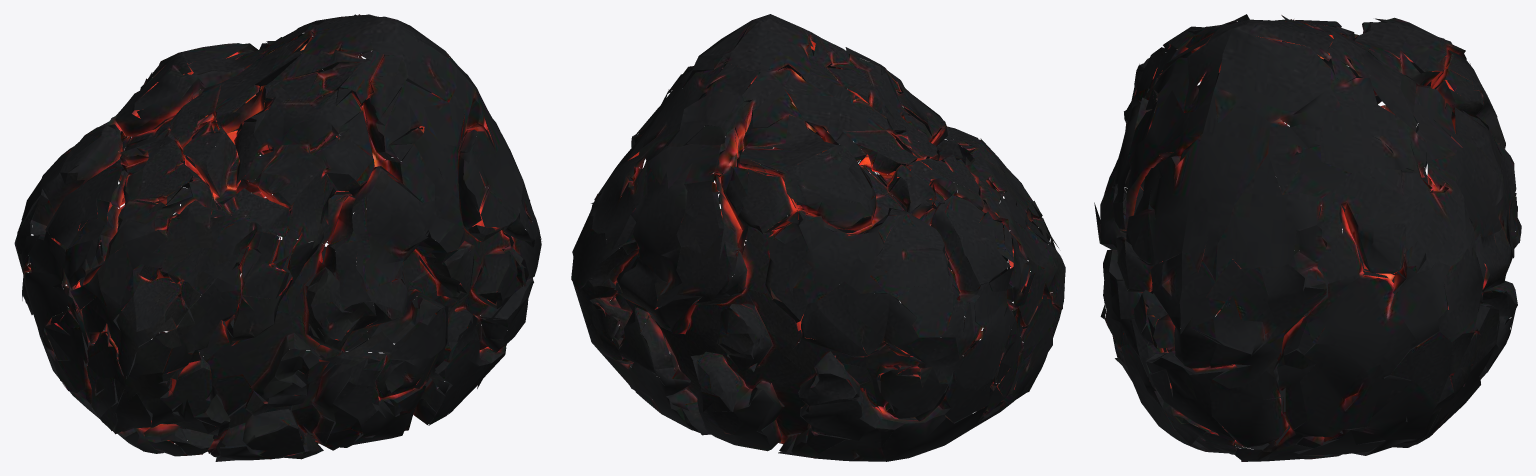
Rendered from boulder_pieces.glb.
3 renders of one model, left to right at view 1: azimuth 30°, elevation 25°; view 2: azimuth 150°, elevation 25°; view 3: azimuth 270°, elevation 25°, orthographic. The views are drawn at different scales.
Visible parts, largest first — view 1: chunk_6, chunk_5, chunk_9, chunk_7, chunk_1, chunk_0, chunk_8, chunk_10, chunk_2, chunk_4, chunk_3; view 2: chunk_4, chunk_7, chunk_3, chunk_10, chunk_2, chunk_9, chunk_6, chunk_5, chunk_8, chunk_1, chunk_0; view 3: chunk_5, chunk_8, chunk_4, chunk_10, chunk_1, chunk_9, chunk_3, chunk_7, chunk_0, chunk_2.
Boxes of the visible parts, x1,y1,x2,y2 form: chunk_6: (69, 220, 362, 461); chunk_5: (382, 20, 541, 303); chunk_9: (199, 49, 391, 234); chunk_7: (14, 56, 226, 279); chunk_1: (204, 316, 486, 459); chunk_0: (187, 182, 408, 331); chunk_8: (349, 151, 534, 374); chunk_10: (226, 14, 397, 92); chunk_2: (20, 246, 226, 450); chunk_4: (120, 31, 427, 244); chunk_3: (53, 180, 348, 395); chunk_4: (571, 119, 818, 372); chunk_7: (799, 137, 1022, 362); chunk_3: (628, 309, 889, 461); chunk_10: (638, 14, 817, 143); chunk_2: (873, 288, 1018, 461); chunk_9: (805, 36, 983, 160); chunk_6: (926, 147, 1065, 417); chunk_5: (619, 14, 866, 211); chunk_8: (580, 196, 837, 404); chunk_1: (666, 216, 933, 423); chunk_0: (864, 138, 992, 212); chunk_5: (1110, 28, 1373, 364); chunk_8: (1103, 242, 1454, 461); chunk_4: (1369, 32, 1520, 395); chunk_10: (1185, 19, 1394, 187); chunk_1: (1100, 281, 1419, 456); chunk_9: (1124, 14, 1373, 135); chunk_3: (1384, 219, 1521, 441); chunk_7: (1282, 17, 1462, 147); chunk_0: (1094, 60, 1220, 249); chunk_2: (1263, 112, 1448, 344).
Bounding box in the file's own units: 1.21 × 1 × 0.9595.
Materials: 1 (1 with a texture image).
